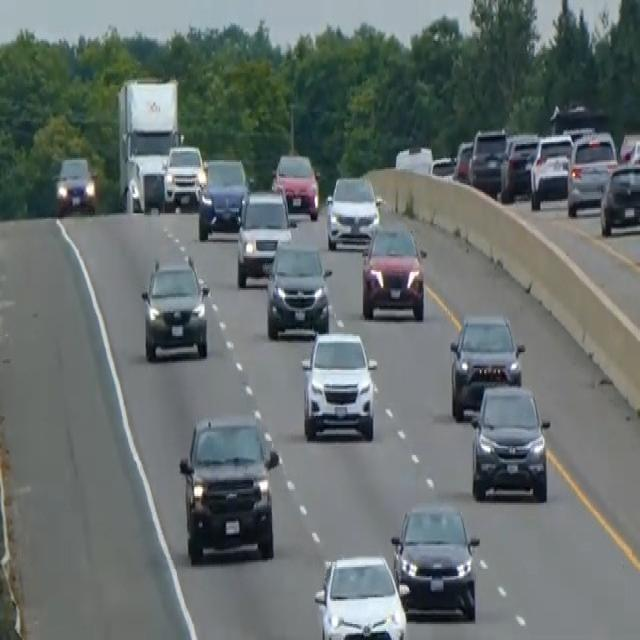car: (390, 500, 480, 620), (469, 381, 550, 503), (448, 311, 525, 420), (313, 551, 406, 638), (140, 252, 210, 361), (360, 220, 426, 322), (265, 238, 331, 340), (235, 185, 293, 286), (566, 128, 618, 217), (196, 155, 249, 240), (325, 172, 380, 249), (528, 130, 573, 208), (271, 151, 320, 221), (599, 158, 639, 236), (162, 142, 206, 208), (499, 130, 538, 201), (468, 126, 507, 194), (55, 153, 97, 215), (394, 142, 433, 176), (452, 139, 473, 183), (618, 130, 639, 165)
jeep: (177, 409, 280, 563), (299, 325, 378, 443)
lorry: (115, 75, 182, 212)
